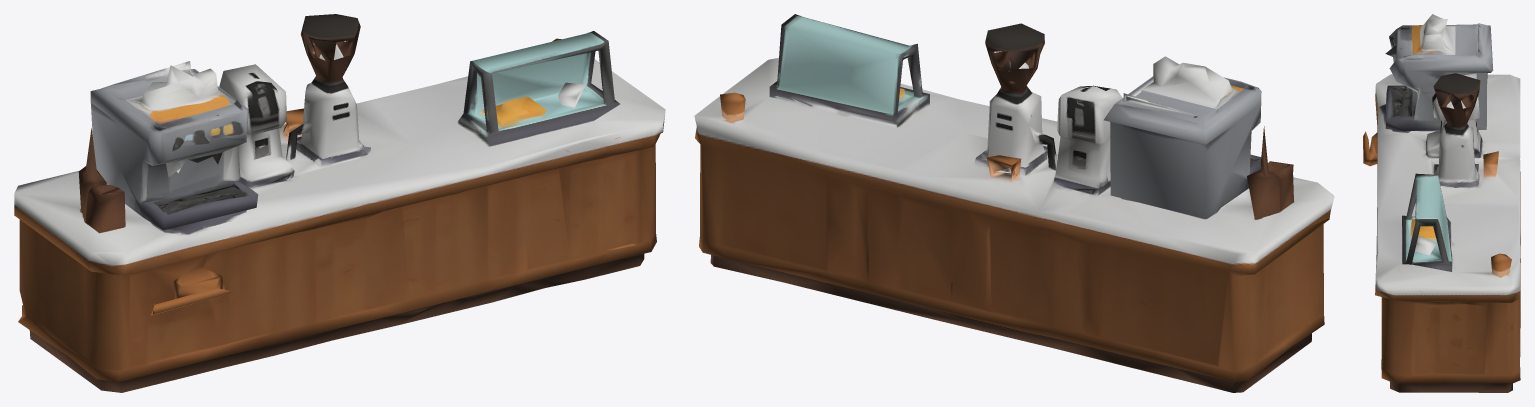
The model's file is coffee-bar.glb.
3 views of the same model, side by side, from view 1: azimuth 30°, elevation 25°; view 2: azimuth 150°, elevation 25°; view 3: azimuth 270°, elevation 25° (orthographic). The views are drawn at different scales.
Visible parts, largest first — view 1: tripo_node_1eec2837-29fc-4100-b67a-9125aad3090c; view 2: tripo_node_1eec2837-29fc-4100-b67a-9125aad3090c; view 3: tripo_node_1eec2837-29fc-4100-b67a-9125aad3090c.
Part boxes in pixels (left/top/right/bottom): tripo_node_1eec2837-29fc-4100-b67a-9125aad3090c: left=14, top=14, right=665, bottom=392; tripo_node_1eec2837-29fc-4100-b67a-9125aad3090c: left=694, top=14, right=1334, bottom=392; tripo_node_1eec2837-29fc-4100-b67a-9125aad3090c: left=1363, top=14, right=1520, bottom=392.
Size of the model in its own units: 1 by 0.461 by 0.313.
1 material, 1 textured.
